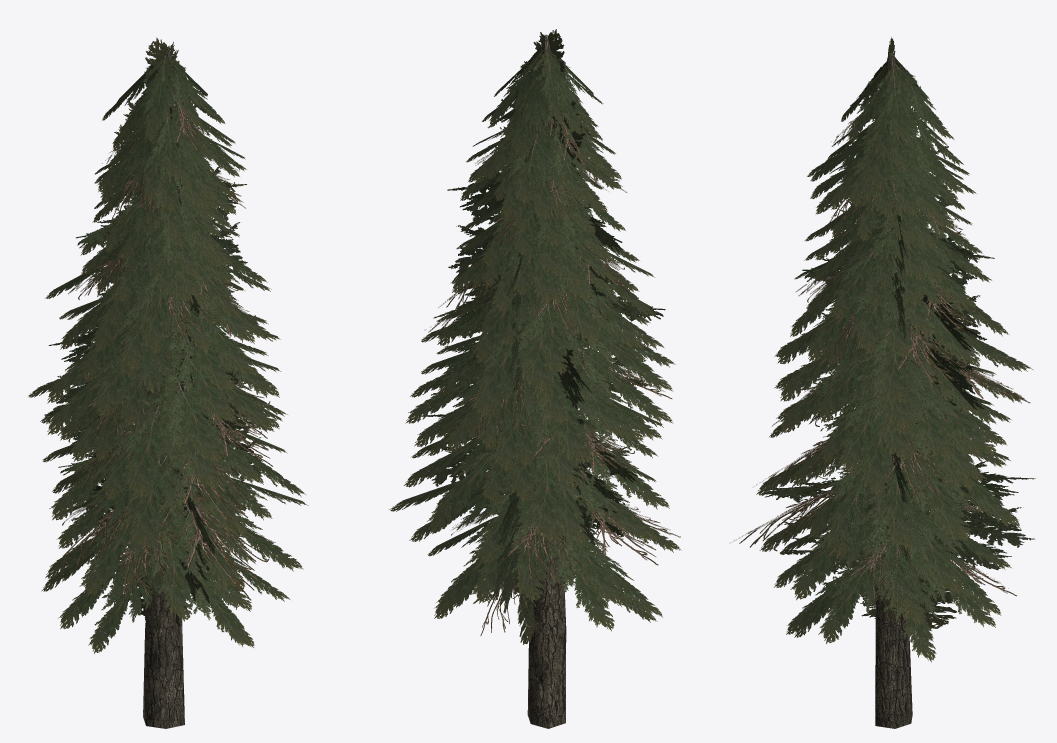
File: prpineC.FBX
The picture shows the model from 3 angles, left to right: view 1: azimuth 30°, elevation 25°; view 2: azimuth 150°, elevation 25°; view 3: azimuth 270°, elevation 25°; orthographic projection.
Visible parts, largest first — view 1: pine3b; view 2: pine3b; view 3: pine3b.
Boxes of the visible parts, box(x1,y1,x2,y2) form: pine3b: box(28, 37, 308, 728); pine3b: box(389, 29, 681, 728); pine3b: box(734, 37, 1035, 728).
Bounding box in the file's own units: 2.56 × 6.17 × 2.61.
